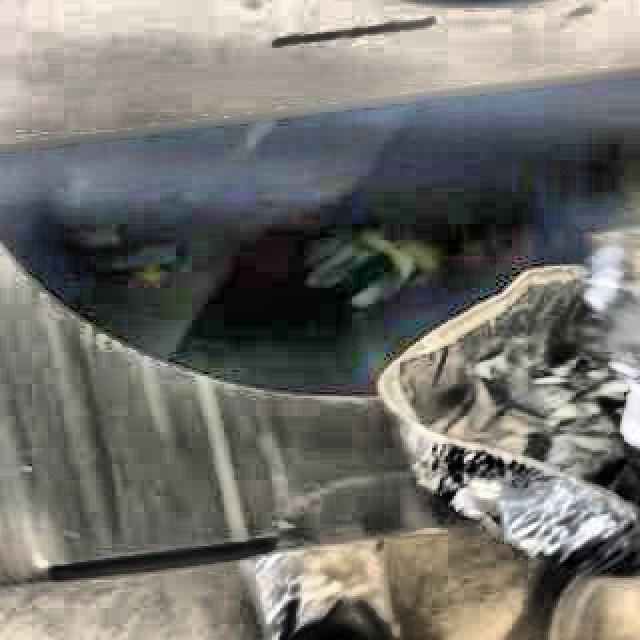metal: (379, 229, 640, 577)
